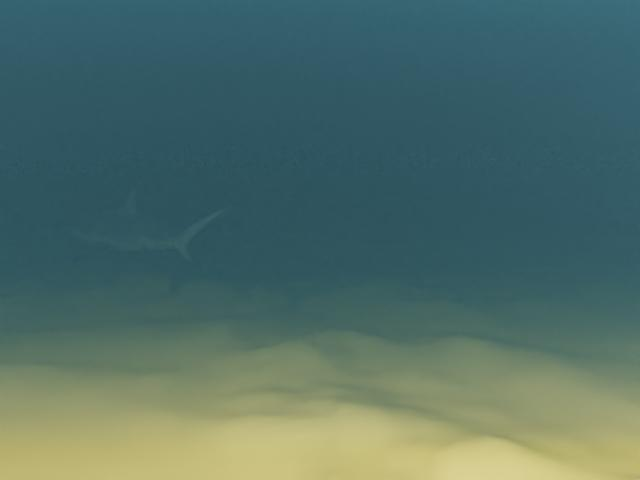Carribean Shark.001: (67, 185, 233, 270)
